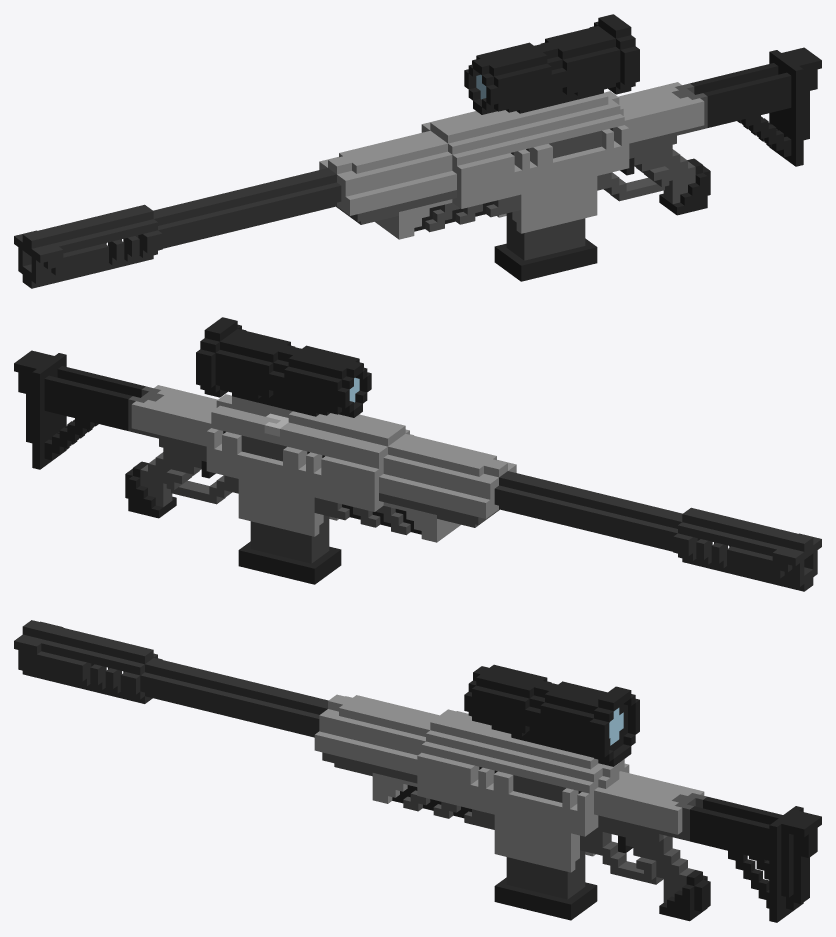
The model's file is Sniper.fbx.
3 renders of one model, top to bottom at view 1: azimuth 30°, elevation 25°; view 2: azimuth 150°, elevation 25°; view 3: azimuth 330°, elevation 25°, orthographic.
Parts seen in each view (by area): view 1: Receiver, Barrel, Scope, Mag; view 2: Receiver, Barrel, Scope, Mag; view 3: Receiver, Barrel, Scope, Mag.
Part boxes in pixels (x1,y1,x2,y2): Receiver: [319, 47, 821, 239]; Barrel: [14, 168, 341, 288]; Scope: [464, 14, 639, 114]; Mag: [494, 212, 597, 281]; Receiver: [14, 350, 516, 542]; Barrel: [494, 471, 821, 591]; Scope: [196, 317, 371, 417]; Mag: [238, 515, 341, 584]; Receiver: [314, 694, 821, 922]; Barrel: [14, 620, 328, 737]; Scope: [464, 664, 639, 766]; Mag: [494, 850, 597, 920].
Size of the model in its own units: 103 by 28 by 10.
Materials: 1 (1 with a texture image).
